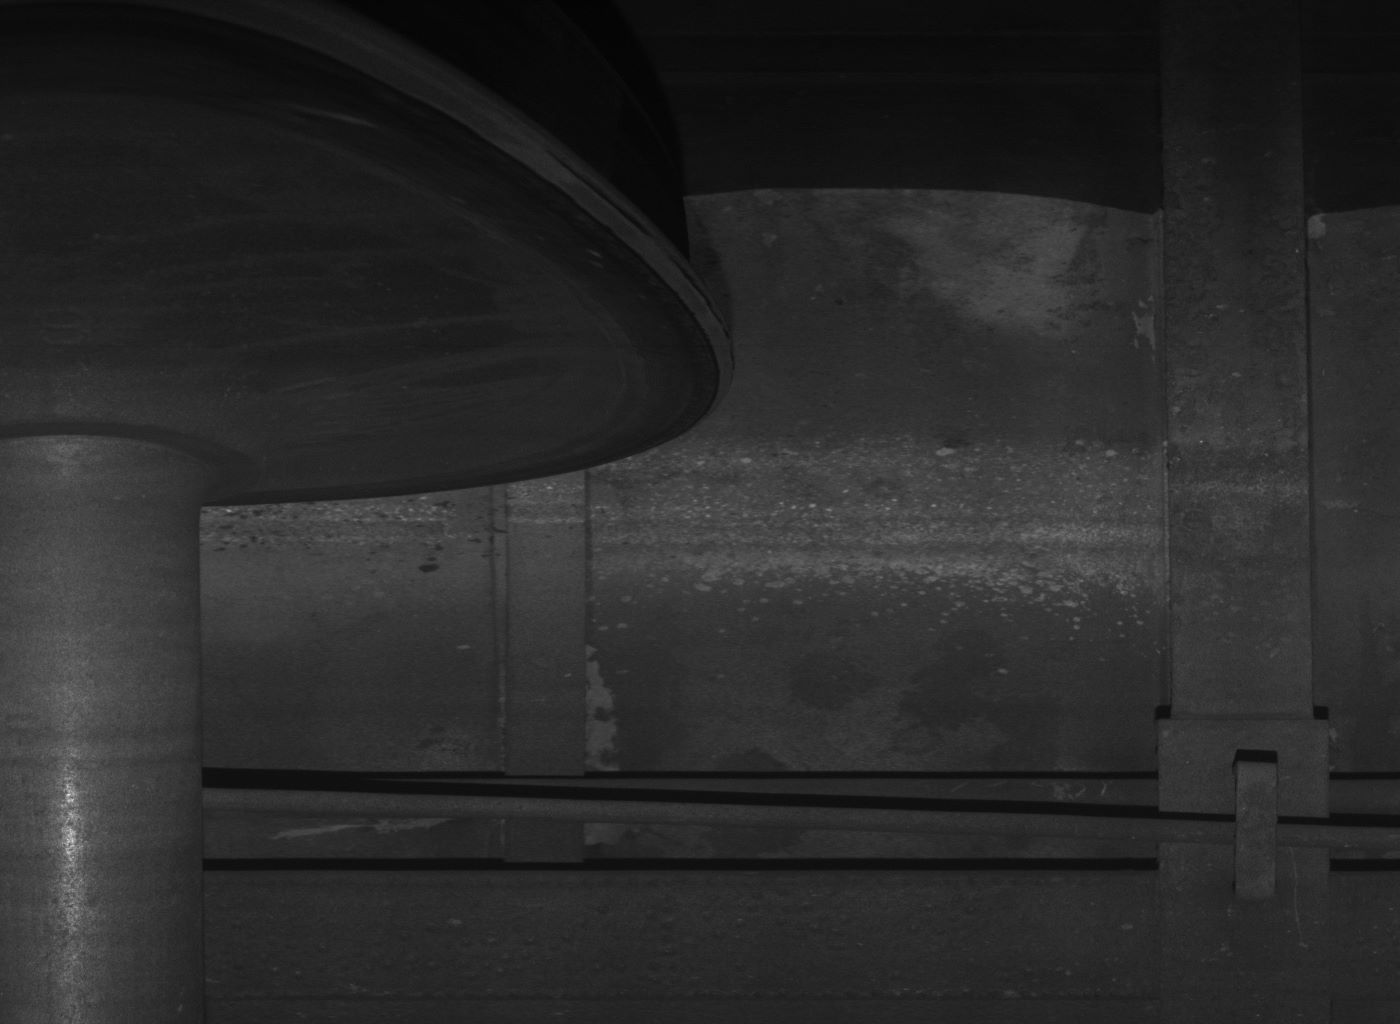normal: (1229, 763, 1276, 904)
